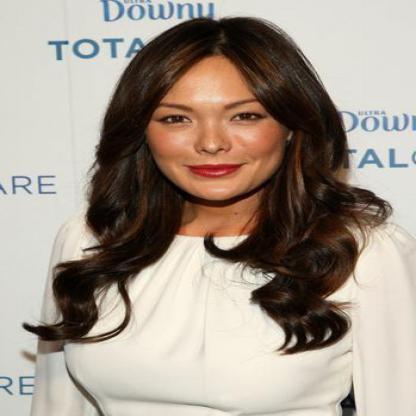long-hair: (64, 204, 374, 267)
